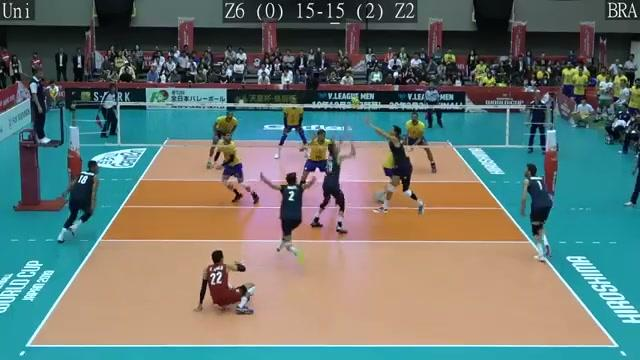ball: (346, 97, 363, 107)
